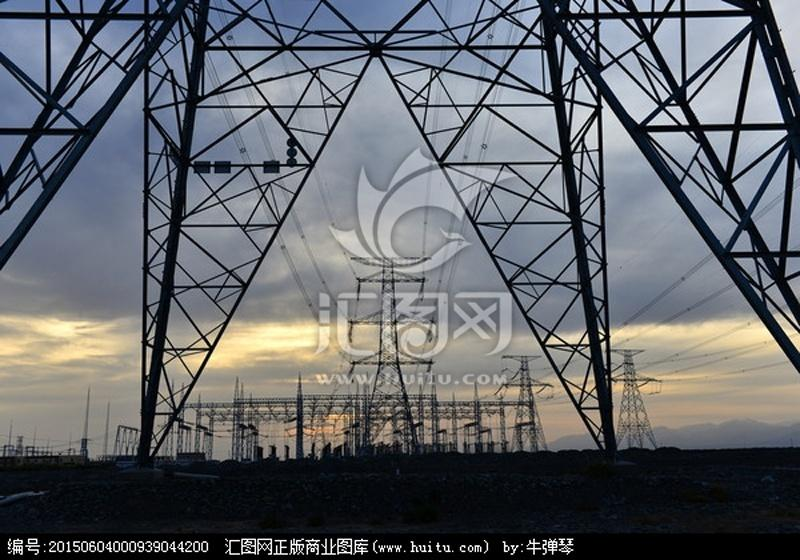power_tower: (6, 3, 796, 527), (346, 247, 436, 455), (602, 346, 666, 448), (497, 348, 554, 448)
